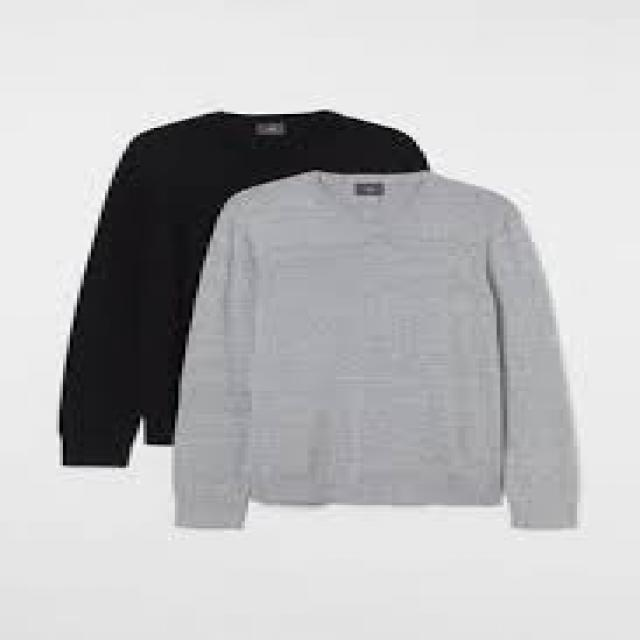plain: (176, 176, 578, 529)
